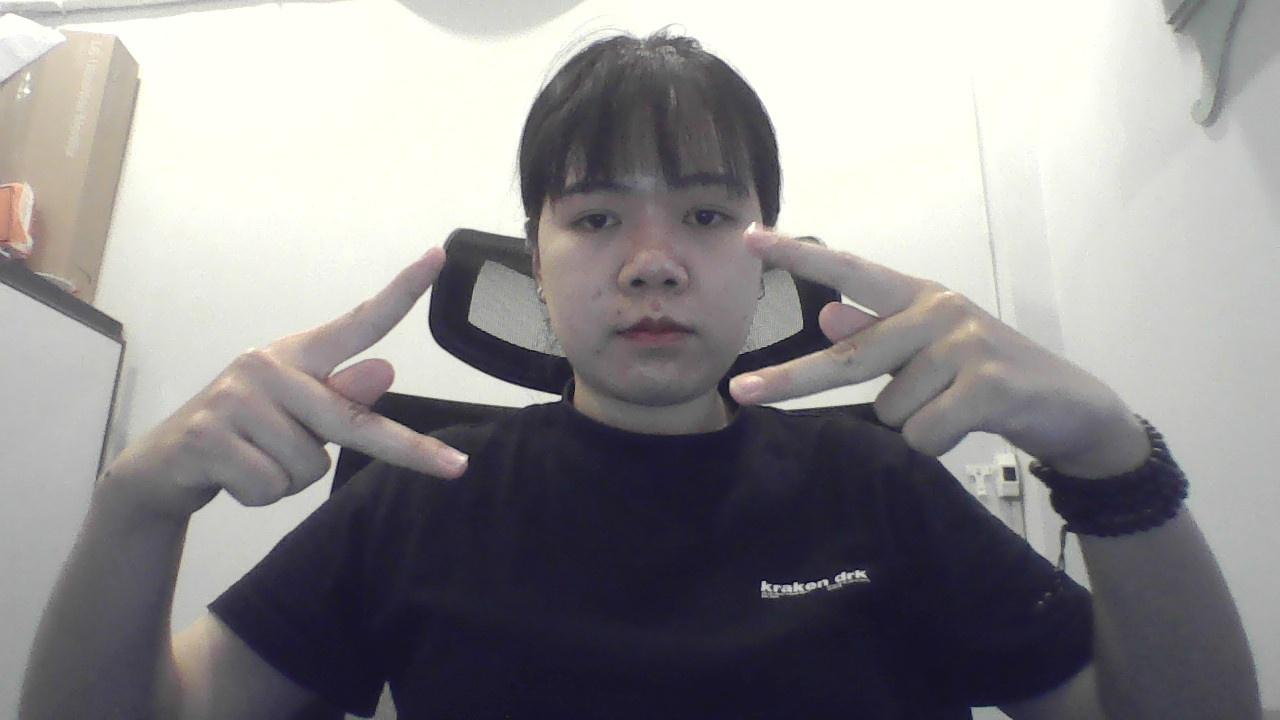P: (721, 210, 1118, 484), (114, 239, 486, 507)
